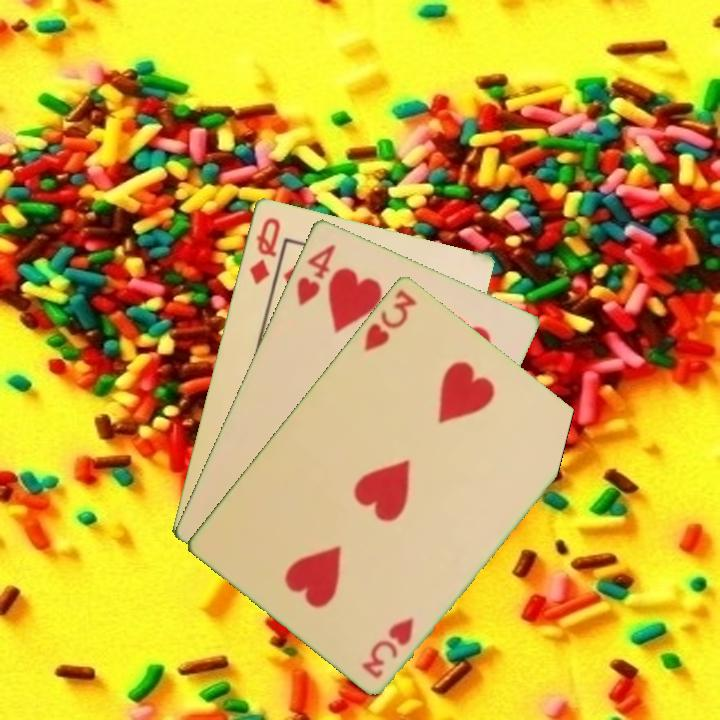3h: (360, 285, 420, 354), (358, 613, 417, 681)
4h: (293, 240, 339, 309)
Qd: (245, 213, 283, 288)
